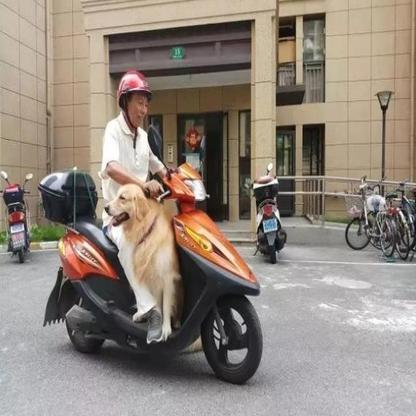target: (38, 67, 267, 385)
